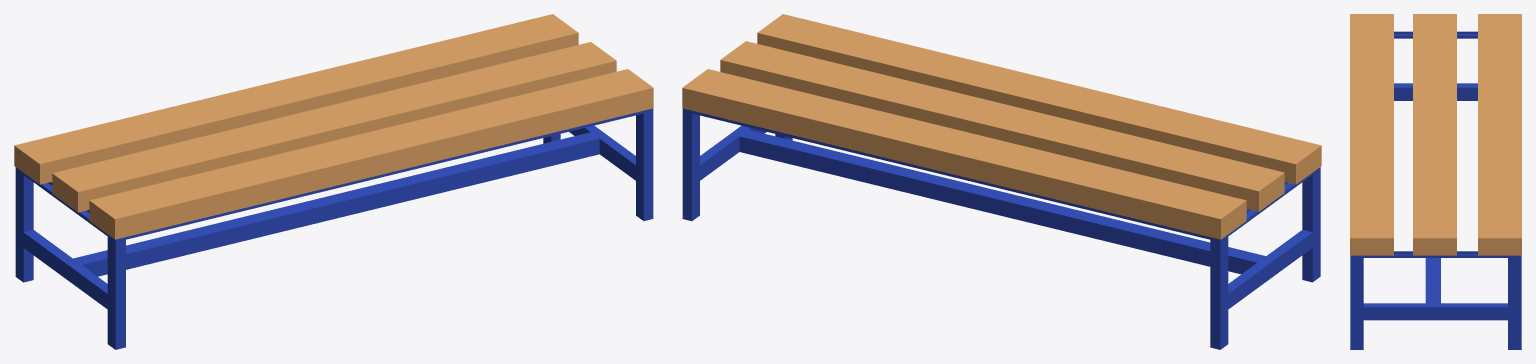
Rendered from lockerBench.glb.
3 views of the same model, side by side, from view 1: azimuth 30°, elevation 25°; view 2: azimuth 150°, elevation 25°; view 3: azimuth 270°, elevation 25° (orthographic). The views are drawn at different scales.
Visible parts, largest first — view 1: Cube.002; view 2: Cube.002; view 3: Cube.002.
Part boxes in pixels (x1,y1,x2,y2): Cube.002: (14, 14, 653, 349); Cube.002: (682, 14, 1321, 349); Cube.002: (1350, 14, 1521, 349).
Bounding box in the file's own units: 5.95 × 1.38 × 1.93.
